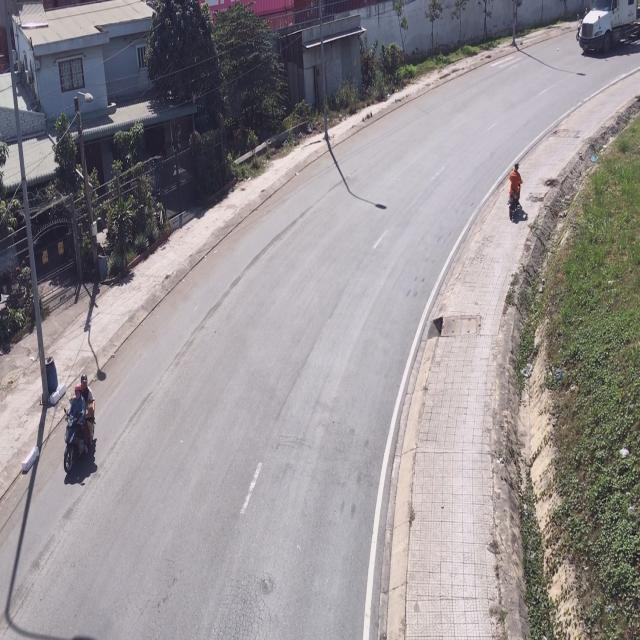motorbike: (64, 374, 95, 482), (508, 162, 524, 223)
truck: (574, 0, 637, 57)
